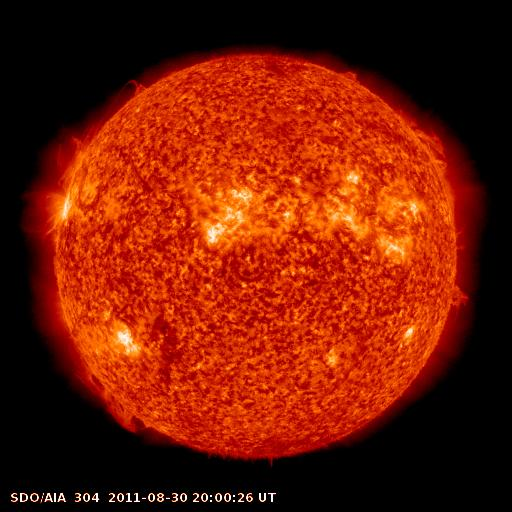prominence: (66, 345, 153, 443), (51, 115, 110, 184), (395, 104, 452, 168), (440, 277, 480, 313), (119, 70, 158, 103)
